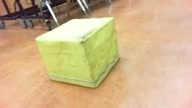cube: (35, 17, 120, 88)
